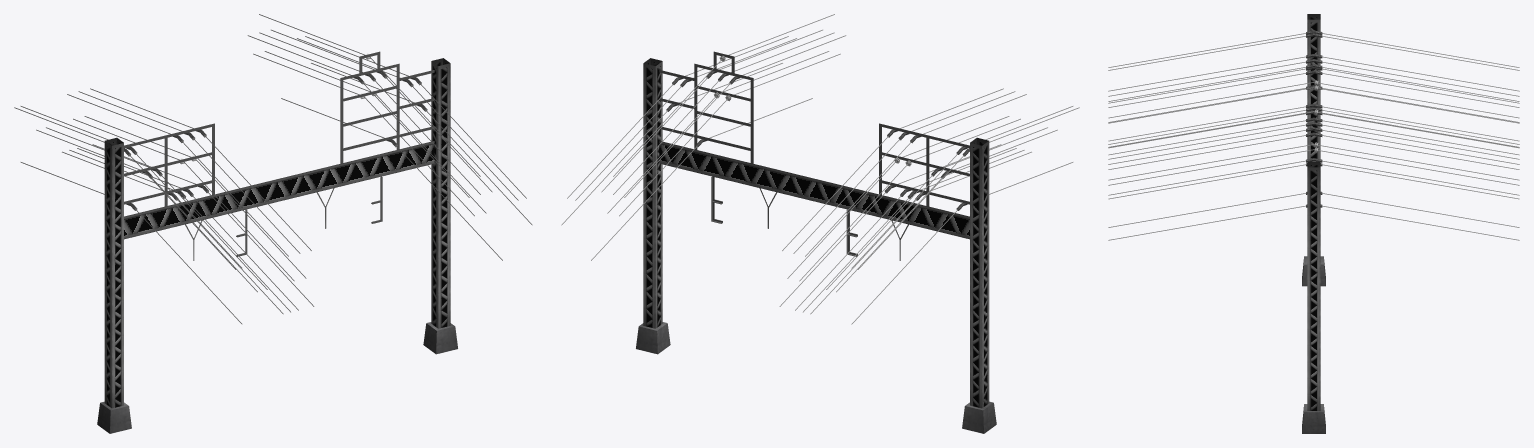
File: KASENCHU01.glb
3 views of the same model, side by side, from view 1: azimuth 30°, elevation 25°; view 2: azimuth 150°, elevation 25°; view 3: azimuth 270°, elevation 25° (orthographic). The views are drawn at different scales.
Visible parts, largest first — view 1: base_clock2; view 2: base_clock2; view 3: base_clock2.
Part boxes in pixels (x1=…): base_clock2: x1=14, y1=14, x2=532, y2=433; base_clock2: x1=561, y1=14, x2=1079, y2=433; base_clock2: x1=1108, y1=14, x2=1519, y2=433.
Bounding box in the file's own units: 45.4 × 38.64 × 50.
5 materials, 5 textured.
